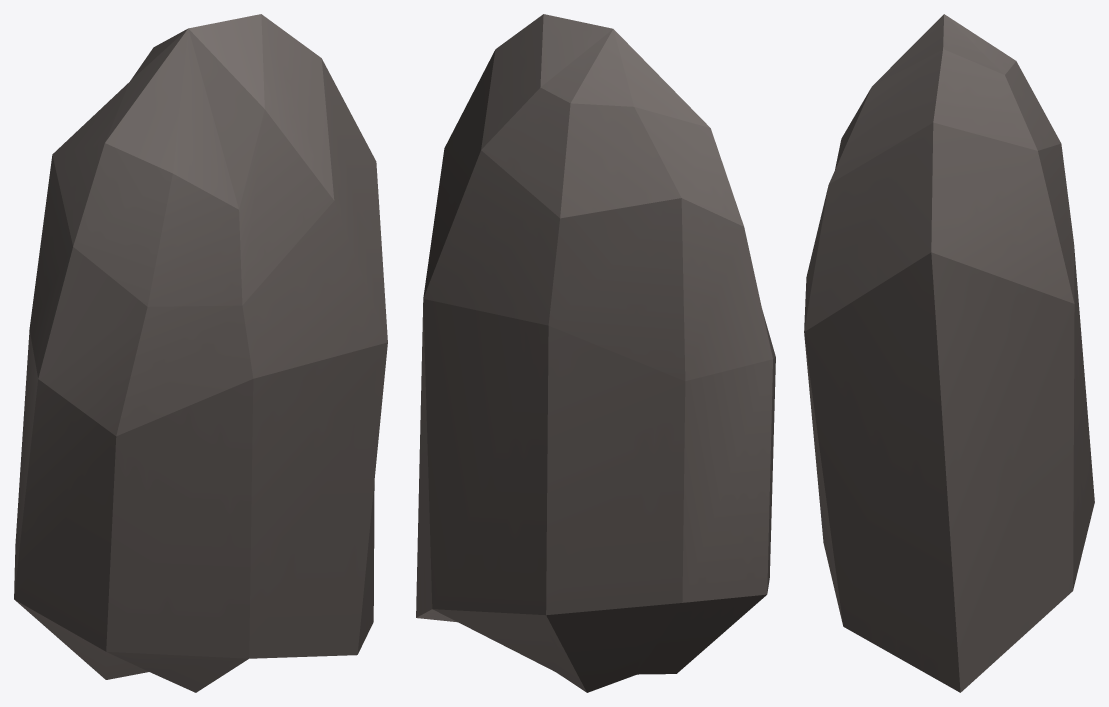
The model's file is pedra4.fbx.
3 renders of one model, left to right at view 1: azimuth 30°, elevation 25°; view 2: azimuth 150°, elevation 25°; view 3: azimuth 270°, elevation 25°, orthographic. The views are drawn at different scales.
Visible parts, largest first — view 1: pSphere12; view 2: pSphere12; view 3: pSphere12.
Boxes of the visible parts, <box> form: pSphere12: <box>14,14,387,692</box>; pSphere12: <box>416,14,775,692</box>; pSphere12: <box>804,14,1094,692</box>.
Size of the model in its own units: 3.28 by 5.68 by 2.5.
